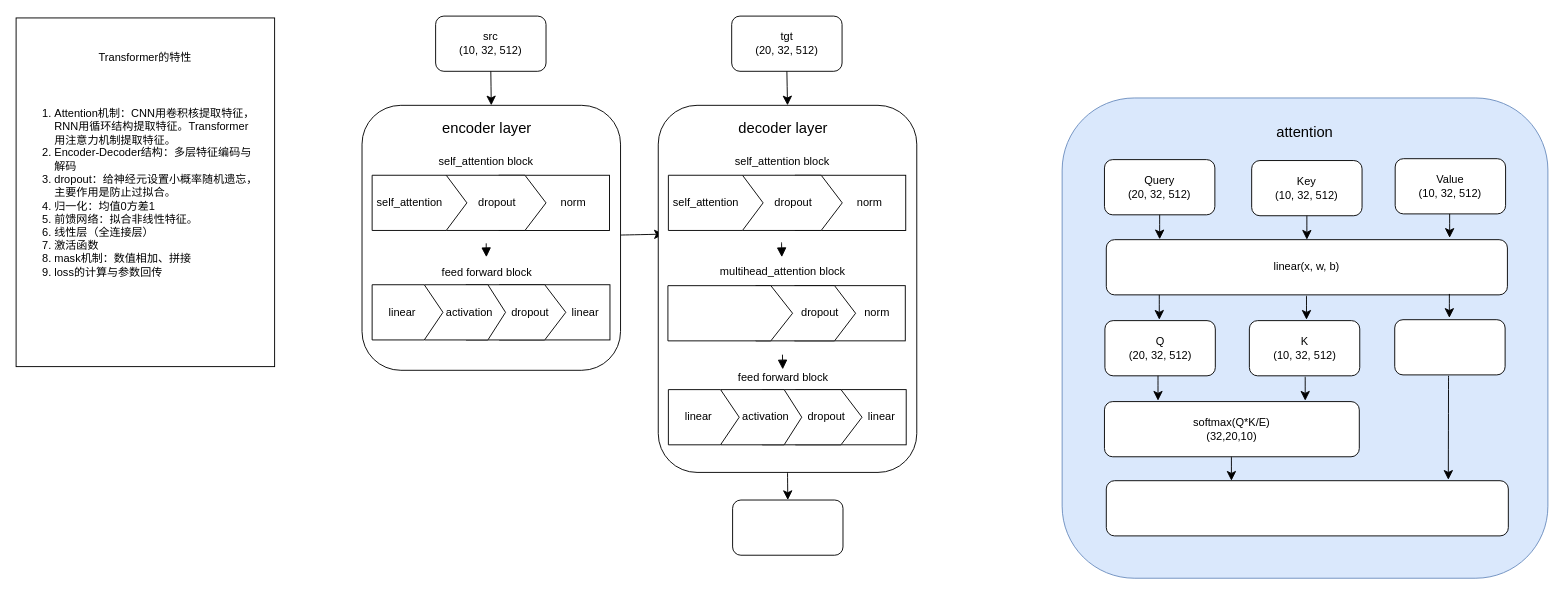
This 1564x594 diagram has some shape labels left out. The shapes that lost their labels are listed below. From the top down, each one's centre as x and y in pixels, then its label:
At (x=730, y=313): "multihead_attention".
At (x=1449, y=347): "V (10, 32, 512)".
At (x=787, y=527): "output (20, 32, 512)".
At (x=1306, y=508): "attn_output (20, 32, 512)".
